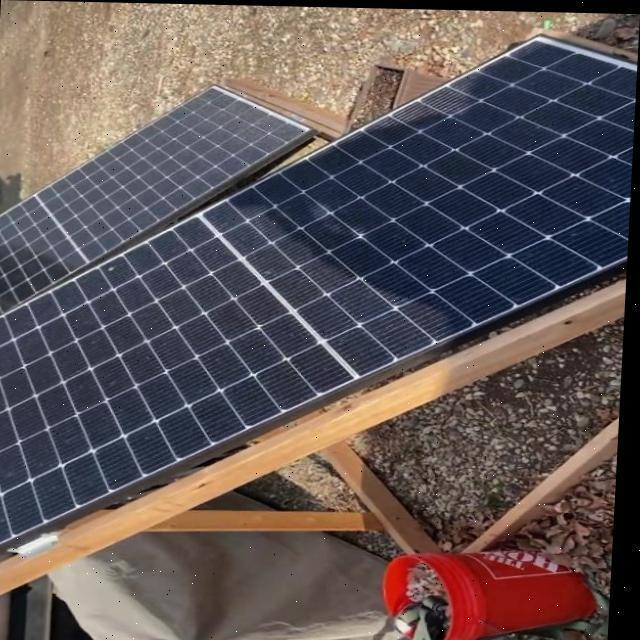Normal Solar Panel: (0, 24, 639, 576), (0, 82, 317, 326)
